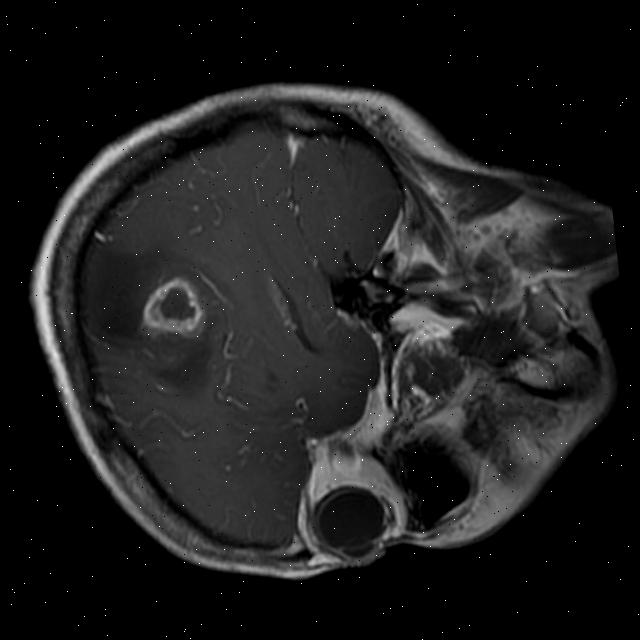Glioma: (135, 268, 211, 343)
